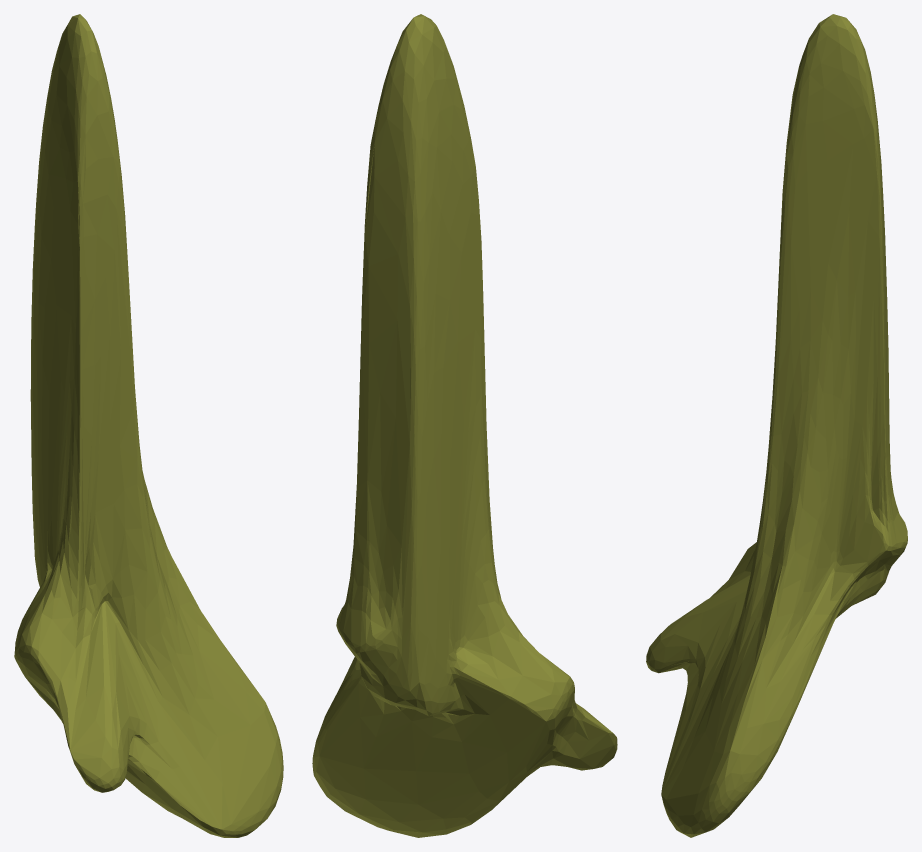
The picture shows the model from 3 angles, left to right: view 1: azimuth 30°, elevation 25°; view 2: azimuth 150°, elevation 25°; view 3: azimuth 270°, elevation 25°; orthographic projection. The views are drawn at different scales.
Parts seen in each view (by area): view 1: 206_Cube.855; view 2: 206_Cube.855; view 3: 206_Cube.855.
Boxes of the visible parts, x1,y1,x2,y2 form: 206_Cube.855: (14,14,283,837); 206_Cube.855: (312,14,617,837); 206_Cube.855: (646,14,907,837).
Size of the model in its own units: 4.61 by 14.64 by 4.49.
